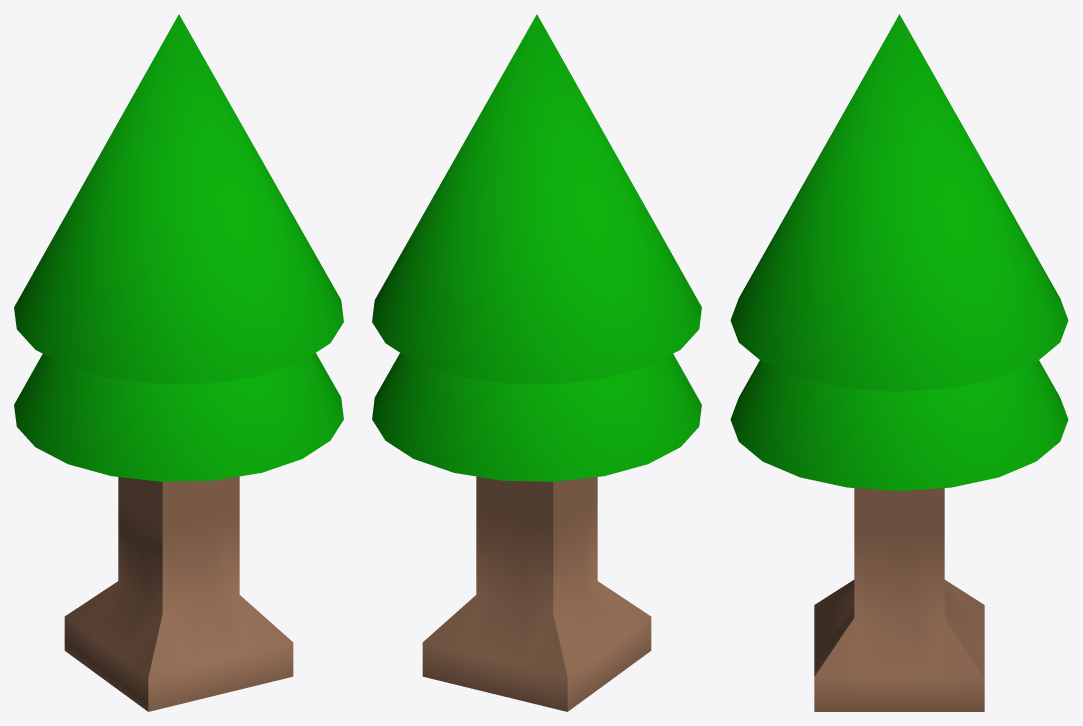
Rendered from tree.fbx.
The picture shows the model from 3 angles, left to right: view 1: azimuth 30°, elevation 25°; view 2: azimuth 150°, elevation 25°; view 3: azimuth 270°, elevation 25°; orthographic projection.
Parts seen in each view (by area): view 1: pCone3; view 2: pCone3; view 3: pCone3.
Part boxes in pixels (<box>): pCone3: <box>14,14,343,711</box>; pCone3: <box>372,14,701,711</box>; pCone3: <box>730,14,1068,711</box>.
Size of the model in its own units: 3.74 by 8.08 by 3.74.
